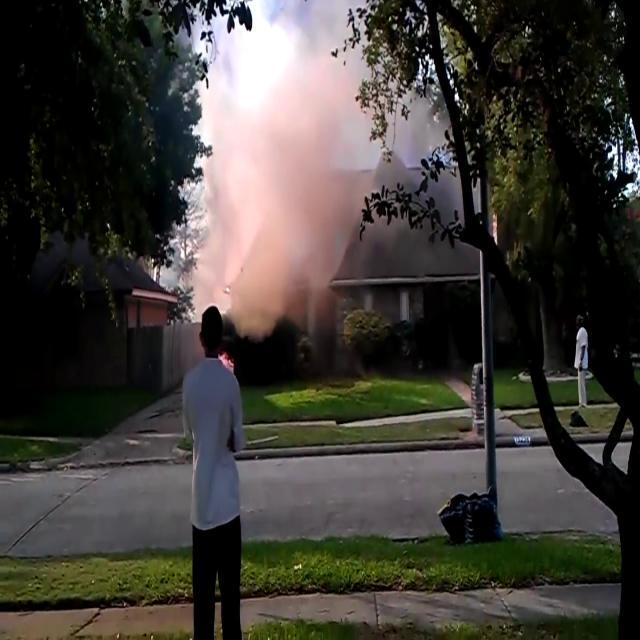Smoke: (190, 2, 393, 342)
